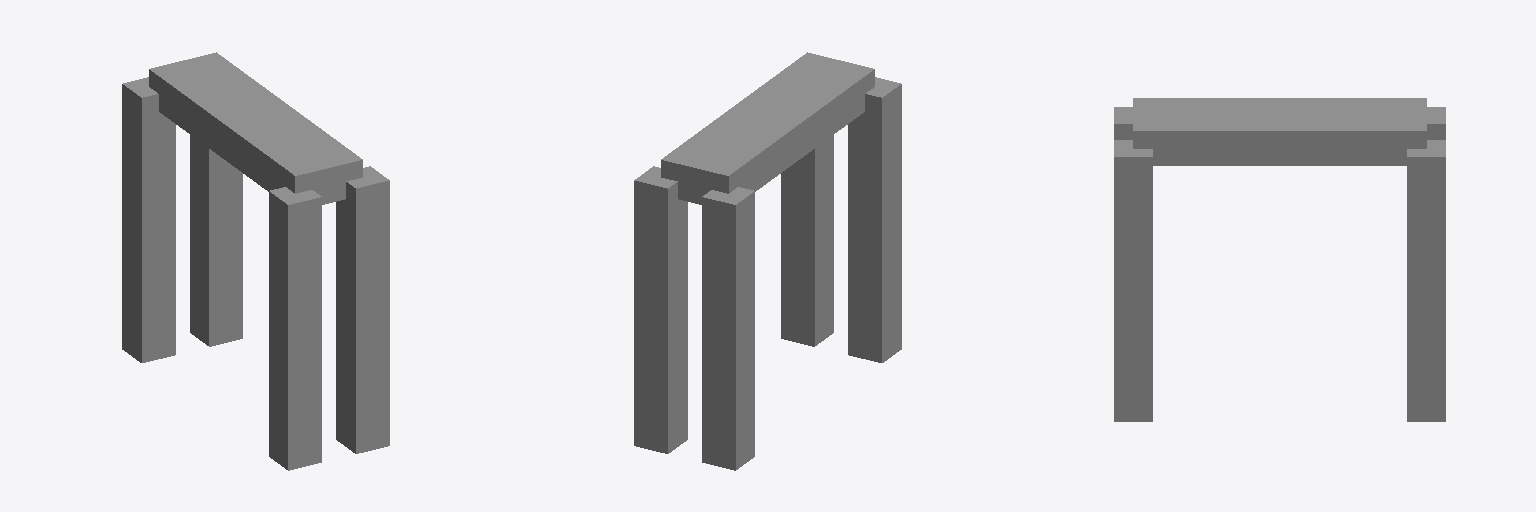
File: TrainCrane.obj
3 renders of one model, left to right at view 1: azimuth 30°, elevation 25°; view 2: azimuth 150°, elevation 25°; view 3: azimuth 270°, elevation 25°, orthographic.
Parts seen in each view (by area): view 1: Cube.003; view 2: Cube.003; view 3: Cube.003.
Part boxes in pixels (bbox=[...]): Cube.003: bbox=[122, 52, 389, 470]; Cube.003: bbox=[634, 52, 901, 470]; Cube.003: bbox=[1114, 98, 1445, 421].
Bounding box in the file's own units: 6 × 16 × 17.